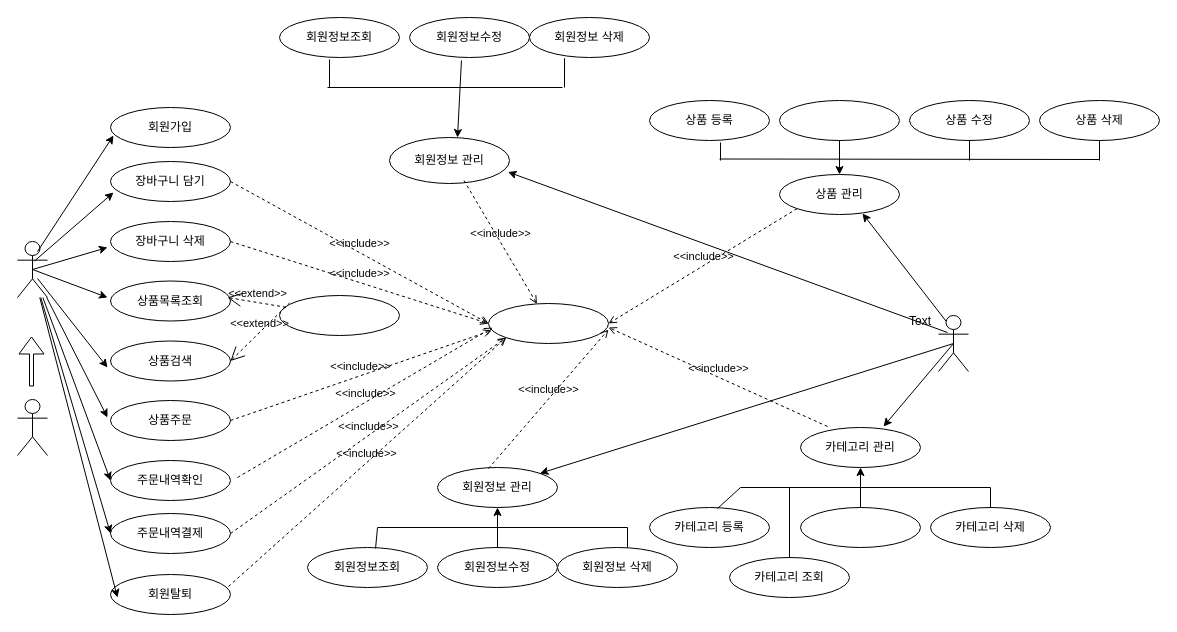
Image size: 1177x632. Some labels were removed from this diagram. The shapes that lost their labels are listed below. From the top down, each one's centre as x and y in pixels, then its label:
At pixel 839 120: "상품 조회".
At pixel 32 269: "유저".
At pixel 339 315: "상품상세정보조회".
At pixel 548 323: "사용자인증".
At pixel 953 343: "관리자".
At pixel 32 427: "회원".
At pixel 860 527: "카테고리 수정".
